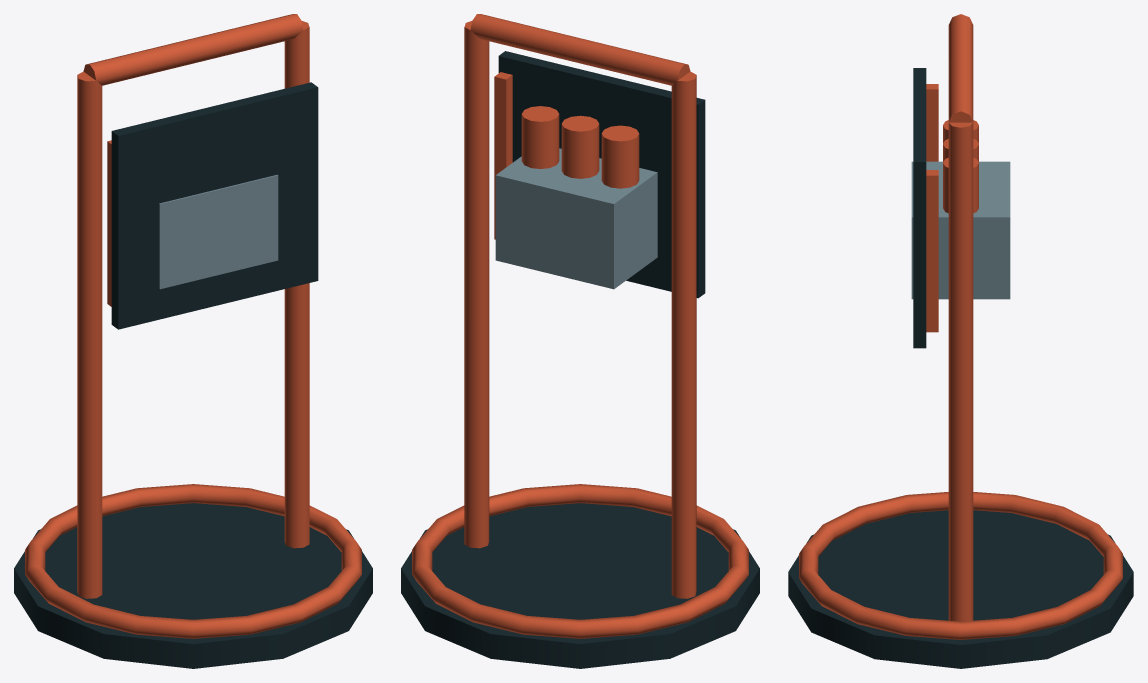
File: pickup-engine.glb
The picture shows the model from 3 angles, left to right: view 1: azimuth 30°, elevation 25°; view 2: azimuth 150°, elevation 25°; view 3: azimuth 270°, elevation 25°; orthographic projection. The views are drawn at different scales.
Parts seen in each view (by area): view 1: pickup-engine; view 2: pickup-engine; view 3: pickup-engine.
Part boxes in pixels (left/top/right/bottom): pickup-engine: left=14, top=14, right=372, bottom=668; pickup-engine: left=401, top=14, right=759, bottom=668; pickup-engine: left=788, top=14, right=1133, bottom=668.
Bounding box in the file's own units: 2.1 × 3.58 × 2.1.
